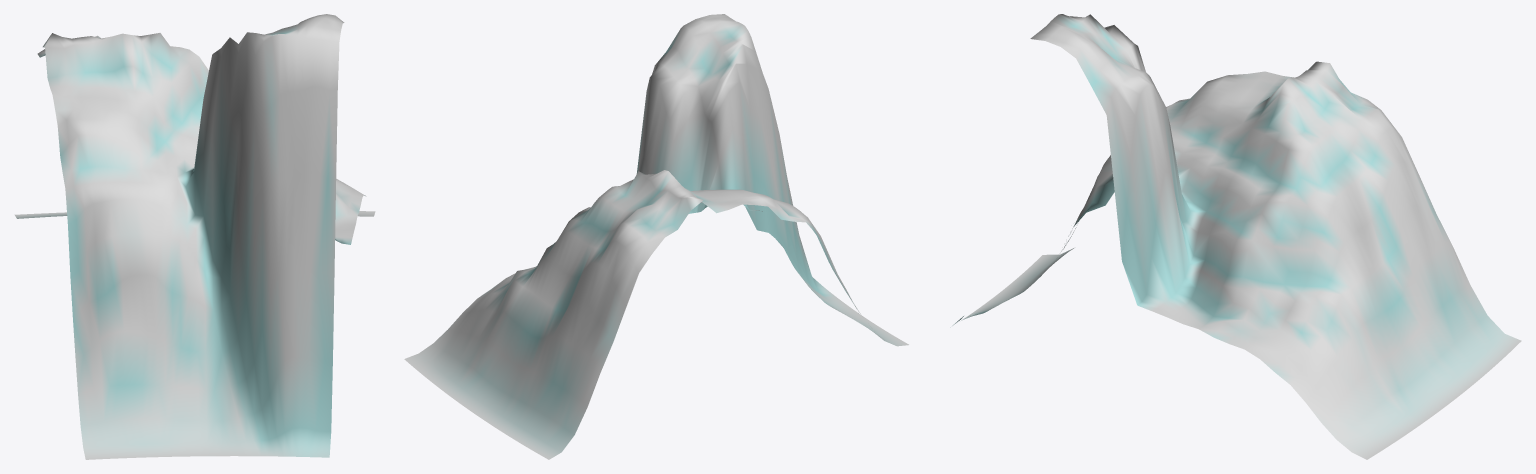
Rendered from middle_12.glb.
3 renders of one model, left to right at view 1: azimuth 30°, elevation 25°; view 2: azimuth 150°, elevation 25°; view 3: azimuth 270°, elevation 25°, orthographic. The views are drawn at different scales.
Parts seen in each view (by area): view 1: Mountain; view 2: Mountain; view 3: Mountain.
Part boxes in pixels (box(x1,y1,x2,y2)): Mountain: box(14, 14, 375, 459); Mountain: box(404, 14, 908, 459); Mountain: box(950, 14, 1521, 459).
Bounding box in the file's own units: 559 × 419 × 673.
